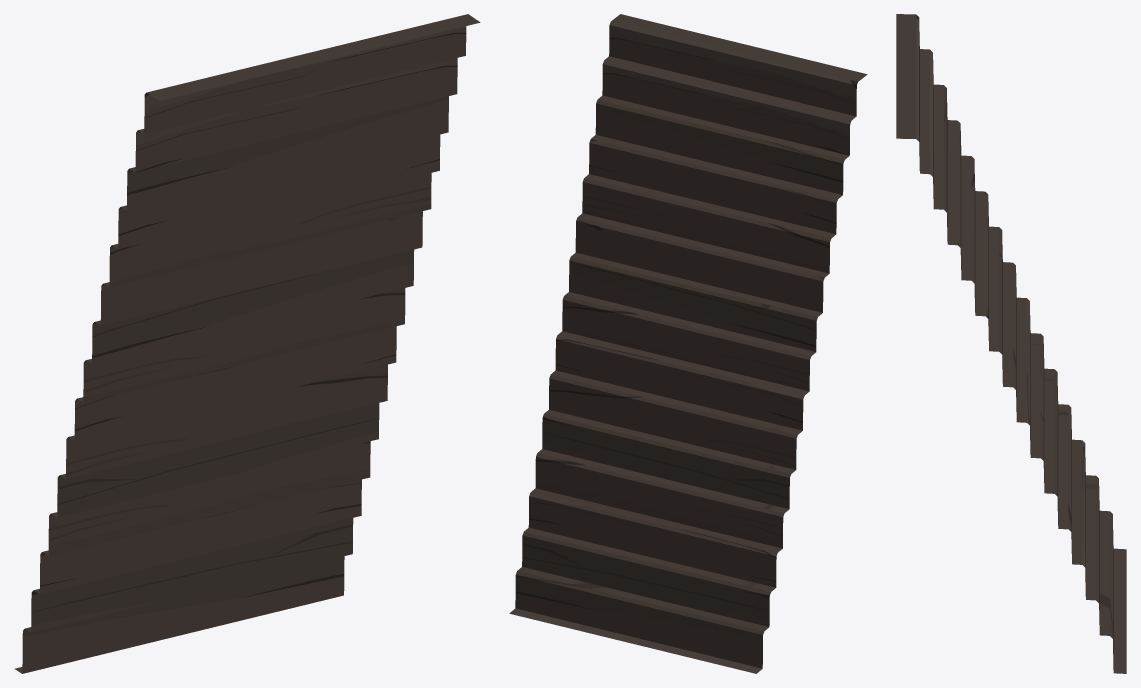
Rendered from Stairs 04.FBX.
3 renders of one model, left to right at view 1: azimuth 30°, elevation 25°; view 2: azimuth 150°, elevation 25°; view 3: azimuth 270°, elevation 25°, orthographic. The views are drawn at different scales.
Visible parts, largest first — view 1: Stairs 04; view 2: Stairs 04; view 3: Stairs 04.
Part boxes in pixels (x1=…): Stairs 04: x1=14, y1=14, x2=480, y2=673; Stairs 04: x1=509, y1=14, x2=867, y2=673; Stairs 04: x1=896, y1=14, x2=1126, y2=673.
Size of the model in its own units: 200 by 400 by 156.
